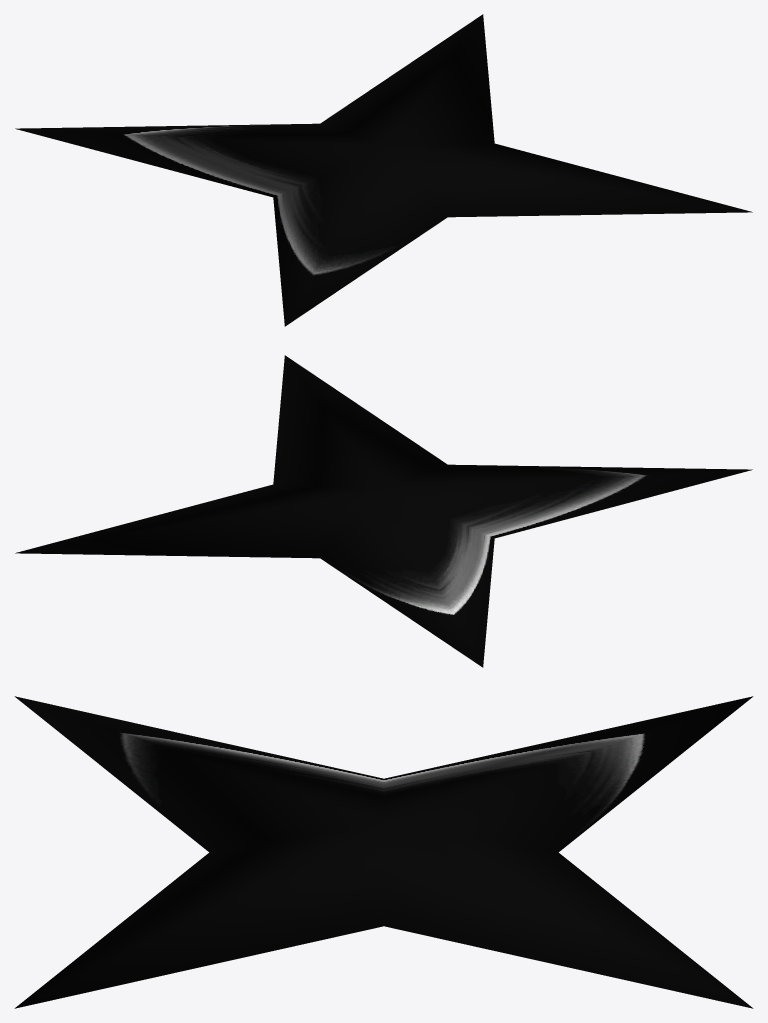
Rendered from 0427_shoulijian_little01.glb.
3 views of the same model, one above another, from view 1: azimuth 30°, elevation 25°; view 2: azimuth 150°, elevation 25°; view 3: azimuth 270°, elevation 25° (orthographic). The views are drawn at different scales.
Bounding box in the file's own units: 2.2 × 0.1975 × 2.2.
1 material, 1 textured.
